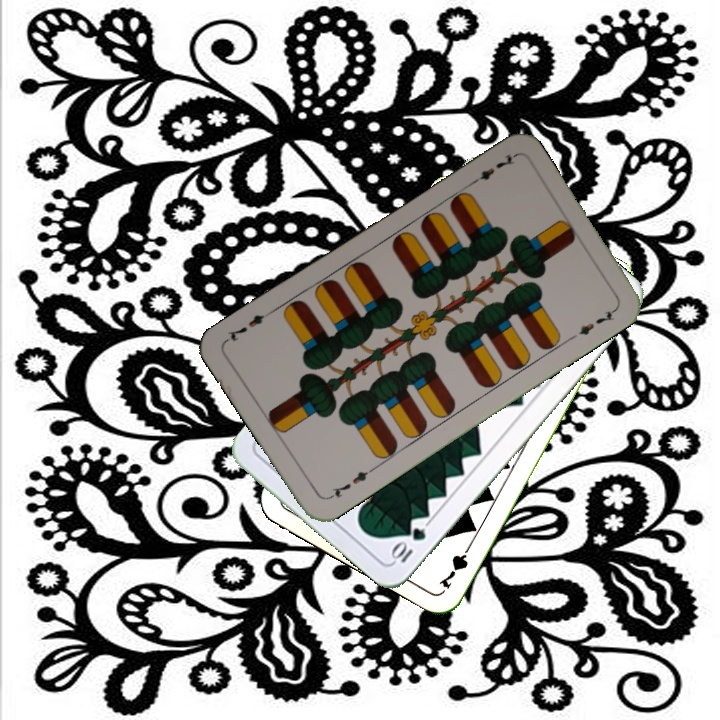E7: (324, 464, 377, 502), (465, 150, 518, 188)
G10: (387, 523, 429, 567)
G7: (434, 537, 476, 592)
